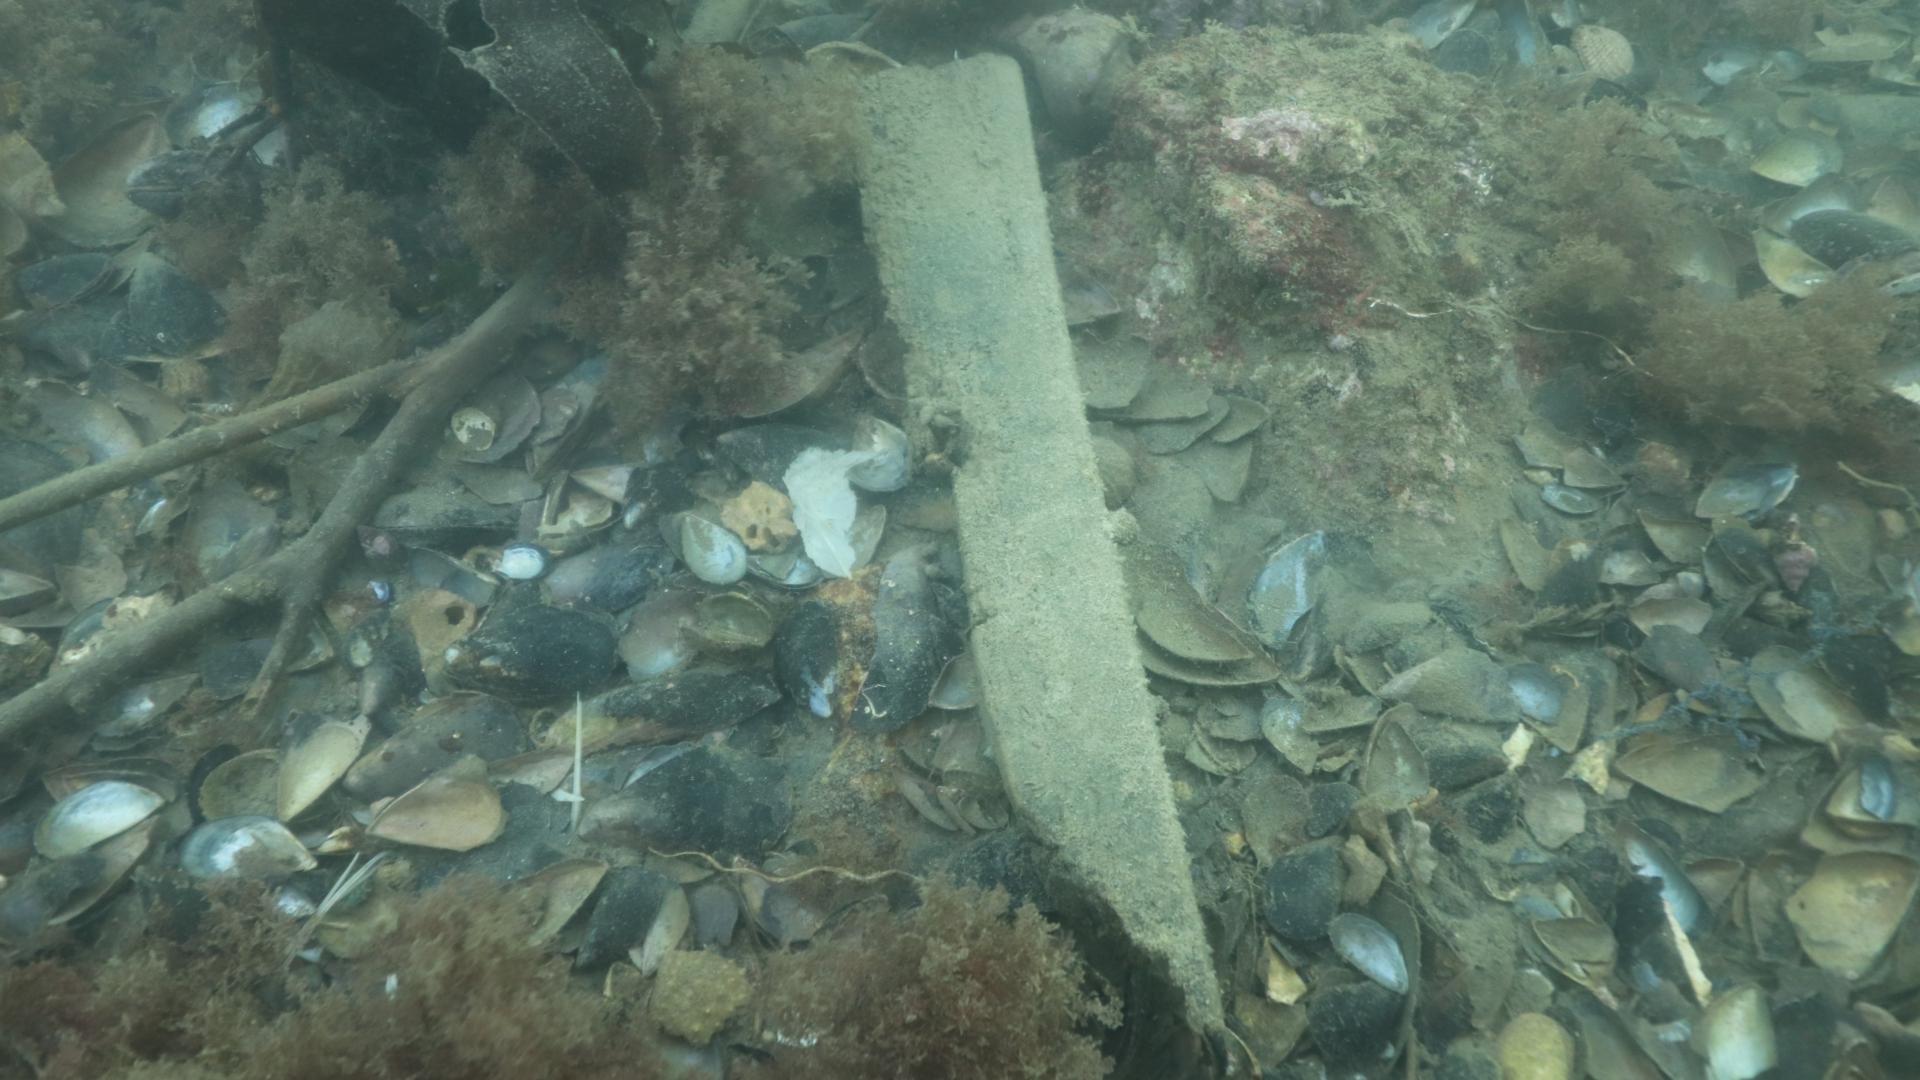wood: (847, 47, 1228, 1038)
